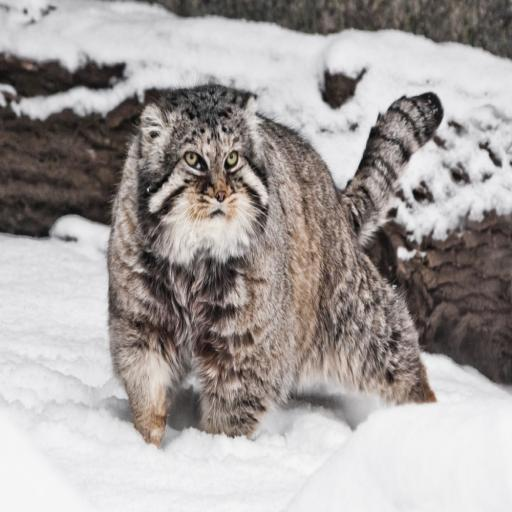manul: (108, 84, 442, 446)
